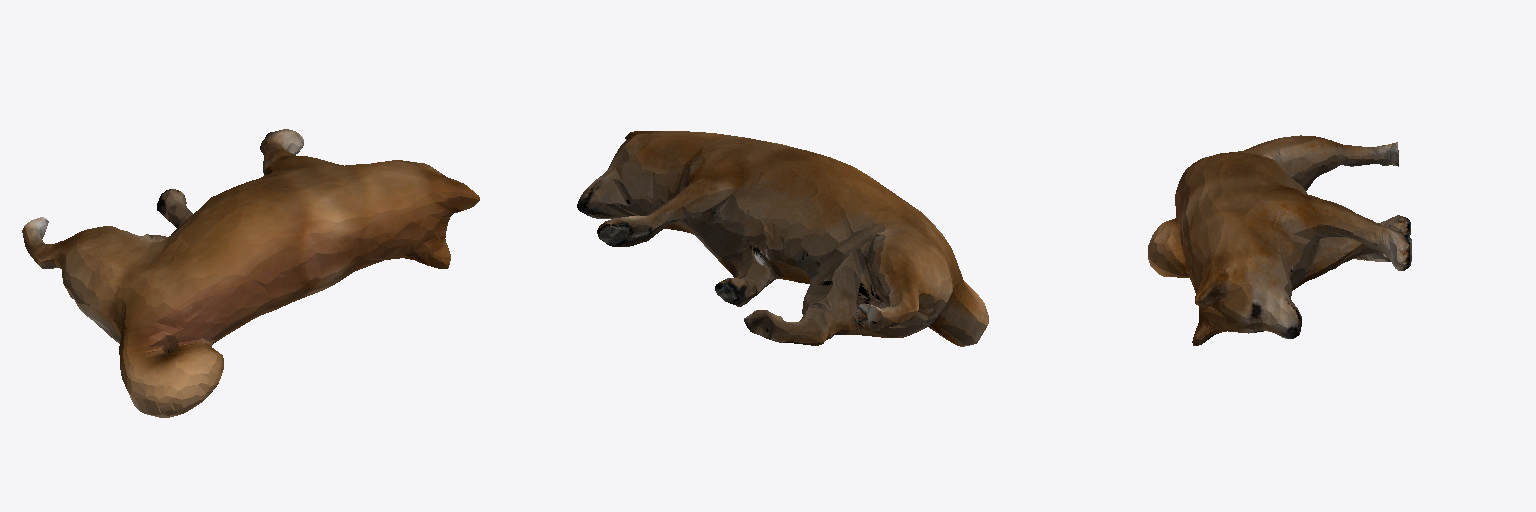
The picture shows the model from 3 angles: view 1: azimuth 30°, elevation 25°; view 2: azimuth 150°, elevation 25°; view 3: azimuth 270°, elevation 25°; orthographic projection.
Bounding box in the file's own units: 0.6605 × 0.2982 × 0.4118.
Materials: 1 (1 with a texture image).